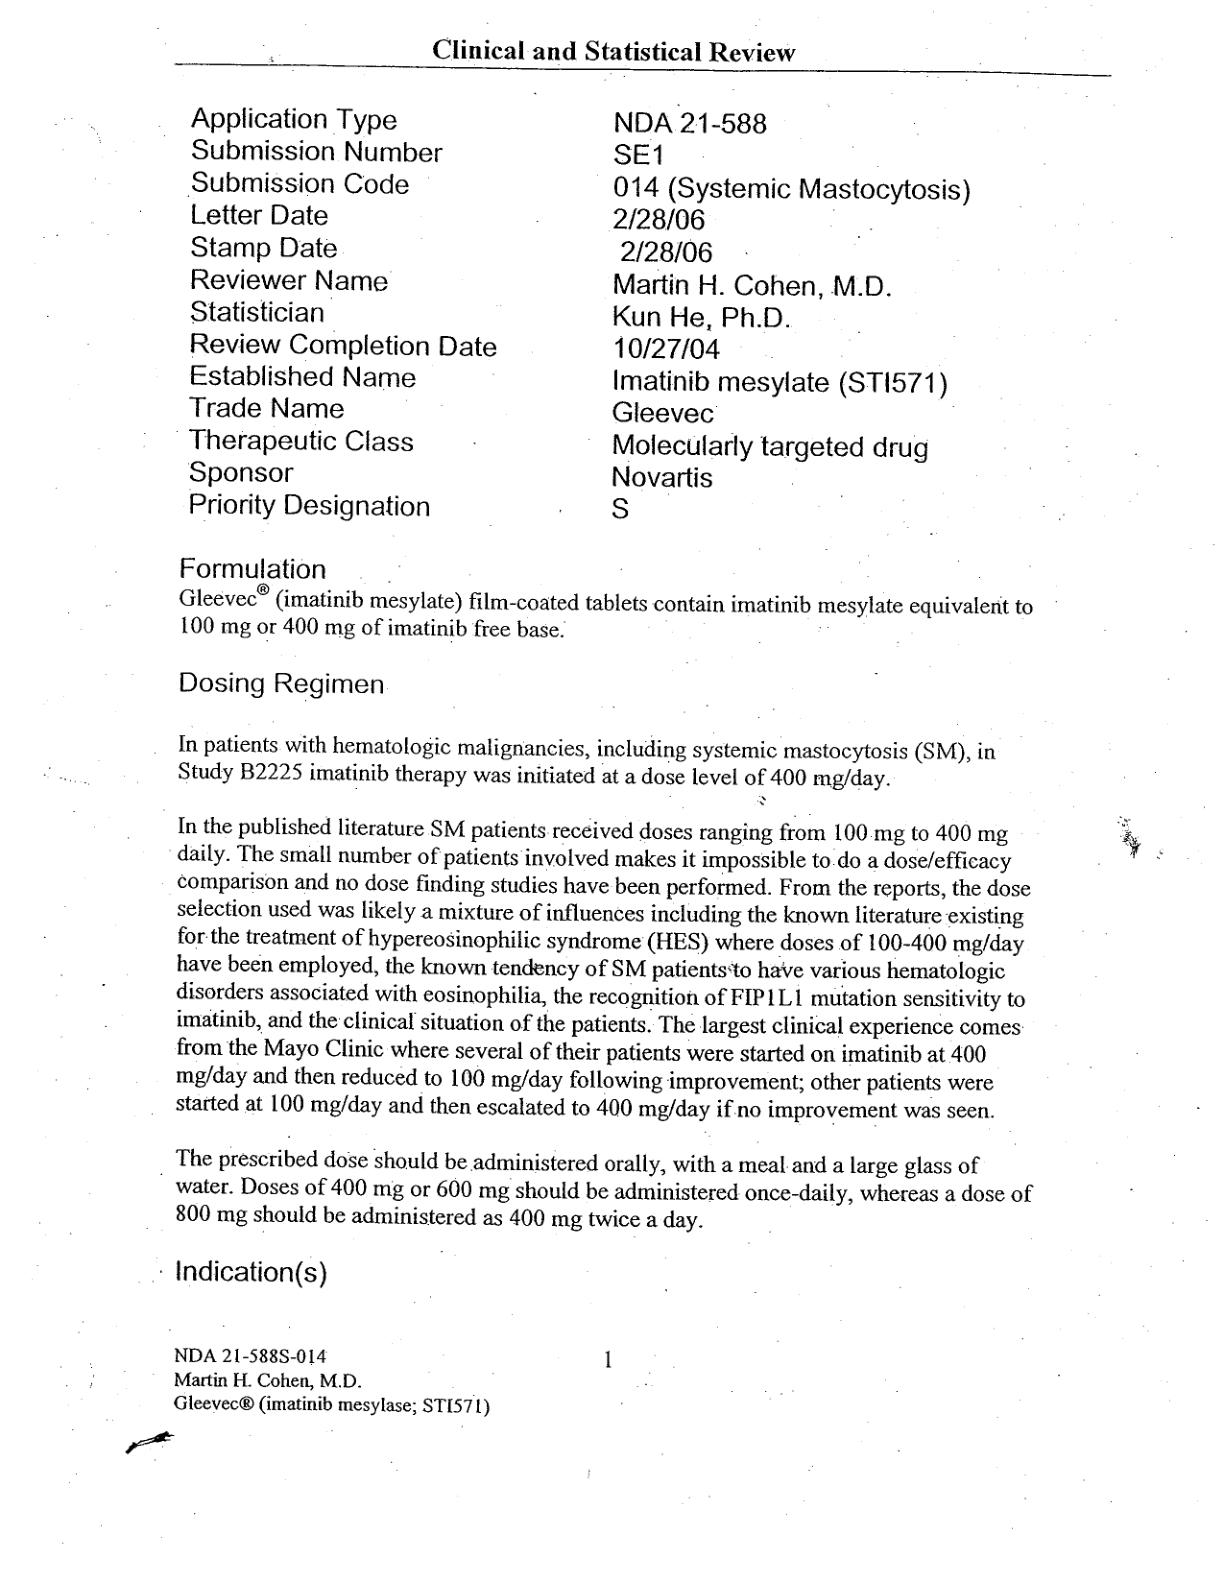nolines: (188, 101, 975, 526)
